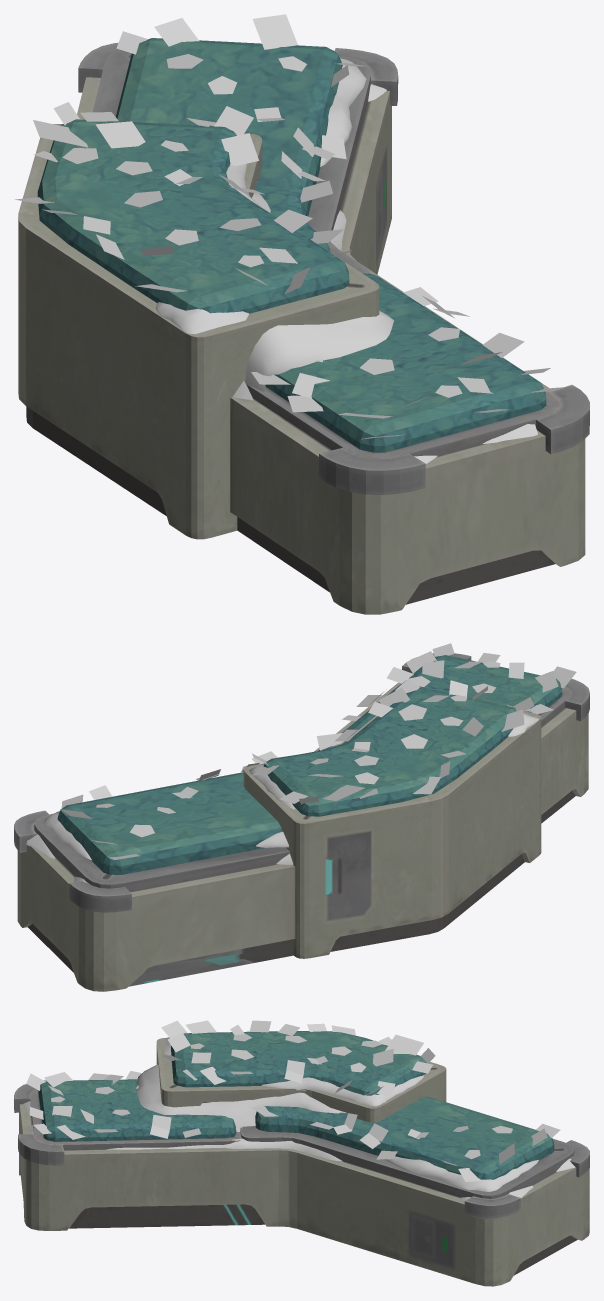
The model's file is pref_sm_city_parterre05_snow_lv3.fbx.
The picture shows the model from 3 angles, top to bottom: view 1: azimuth 30°, elevation 25°; view 2: azimuth 150°, elevation 25°; view 3: azimuth 270°, elevation 25°; orthographic projection. The views are drawn at different scales.
Parts seen in each view (by area): view 1: sm_city_parterre05_snow_lv3, sm_city_parterre05b_snow_lv3, sm_city_parterre05c_snow_lv3; view 2: sm_city_parterre05_snow_lv3, sm_city_parterre05b_snow_lv3, sm_city_parterre05c_snow_lv3; view 3: sm_city_parterre05_snow_lv3, sm_city_parterre05b_snow_lv3, sm_city_parterre05c_snow_lv3.
Boxes of the visible parts, <box> form: sm_city_parterre05_snow_lv3: <box>18,38,589,614</box>; sm_city_parterre05b_snow_lv3: <box>15,14,563,439</box>; sm_city_parterre05c_snow_lv3: <box>155,58,537,463</box>; sm_city_parterre05_snow_lv3: <box>14,653,589,991</box>; sm_city_parterre05b_snow_lv3: <box>60,643,576,859</box>; sm_city_parterre05c_snow_lv3: <box>26,713,538,882</box>; sm_city_parterre05_snow_lv3: <box>14,1031,589,1286</box>; sm_city_parterre05b_snow_lv3: <box>26,1020,560,1181</box>; sm_city_parterre05c_snow_lv3: <box>23,1037,575,1201</box>.
Size of the model in its own units: 3.97 by 1.81 by 6.92.
